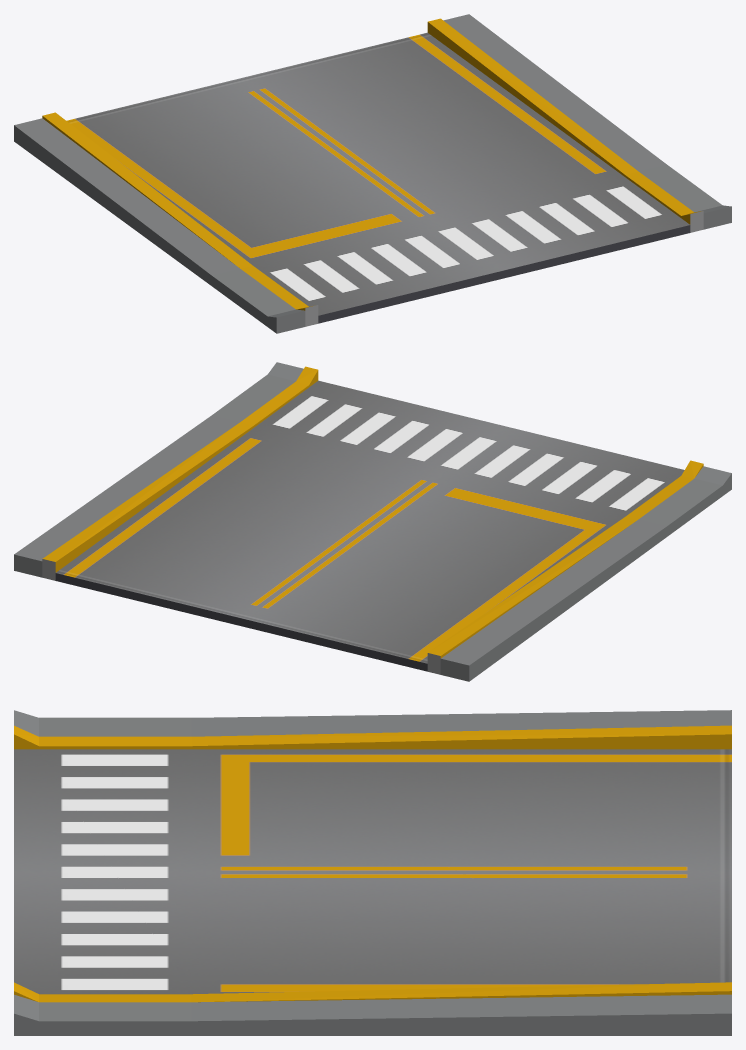
File: Road3_Crossing.fbx
3 renders of one model, top to bottom at view 1: azimuth 30°, elevation 25°; view 2: azimuth 150°, elevation 25°; view 3: azimuth 270°, elevation 25°, orthographic. The views are drawn at different scales.
Visible parts, largest first — view 1: Road3_Crossing; view 2: Road3_Crossing; view 3: Road3_Crossing.
Boxes of the visible parts, bbox=[...] form: Road3_Crossing: bbox=[14, 14, 731, 333]; Road3_Crossing: bbox=[14, 362, 731, 681]; Road3_Crossing: bbox=[14, 710, 731, 1035].
Bounding box in the file's own units: 12 × 0.4753 × 12.
